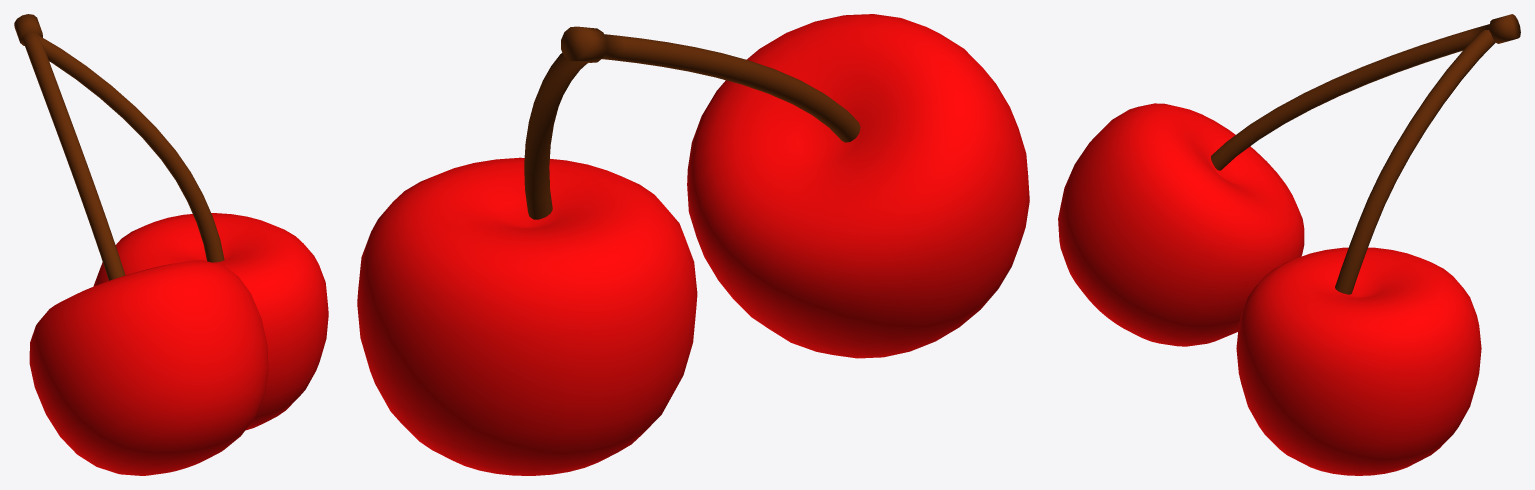
The model's file is Cherry.fbx.
3 renders of one model, left to right at view 1: azimuth 30°, elevation 25°; view 2: azimuth 150°, elevation 25°; view 3: azimuth 270°, elevation 25°, orthographic. The views are drawn at different scales.
Visible parts, largest first — view 1: Cherry2, Cherry1, Stalk; view 2: Cherry2, Cherry1, Stalk; view 3: Cherry1, Cherry2, Stalk.
Boxes of the visible parts, <box> form: Cherry2: <box>29,260,268,475</box>; Cherry1: <box>93,213,328,430</box>; Stalk: <box>14,14,224,280</box>; Cherry2: <box>687,14,1029,358</box>; Cherry1: <box>357,157,697,475</box>; Stalk: <box>524,26,860,219</box>; Cherry1: <box>1236,247,1481,475</box>; Cherry2: <box>1058,103,1304,346</box>; Stalk: <box>1211,14,1520,294</box>.
Size of the model in its own units: 92.28 by 95.02 by 102.
